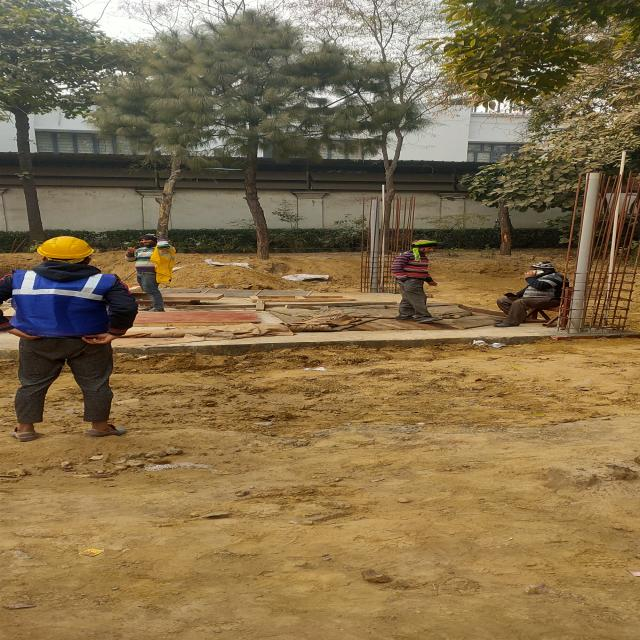safe: (5, 235, 136, 442)
unsafe: (390, 239, 440, 328), (498, 262, 561, 325), (133, 235, 160, 312)
